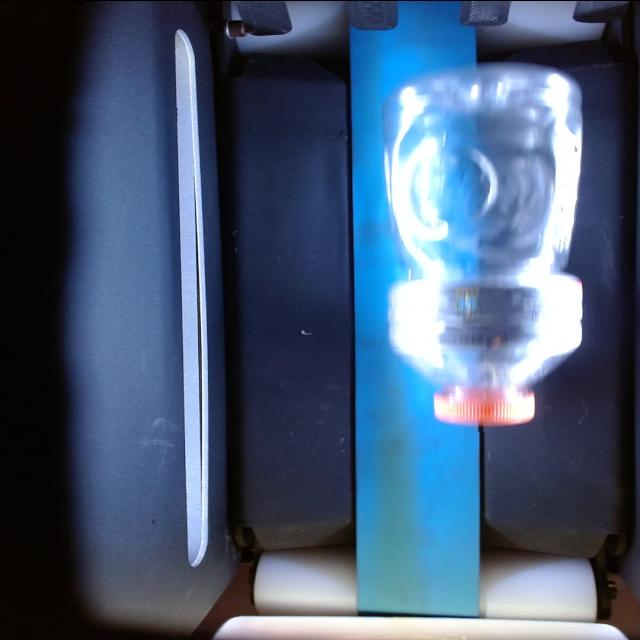bottom: (382, 61, 582, 277)
label: (391, 272, 582, 368)
neck: (388, 348, 581, 430)
